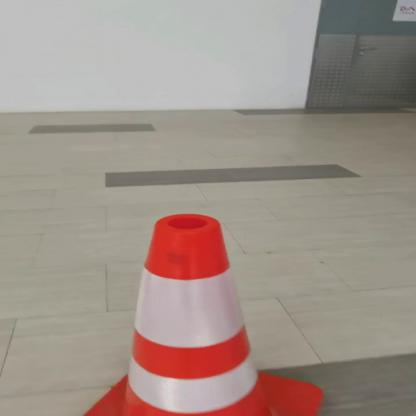cone: (64, 207, 342, 415)
